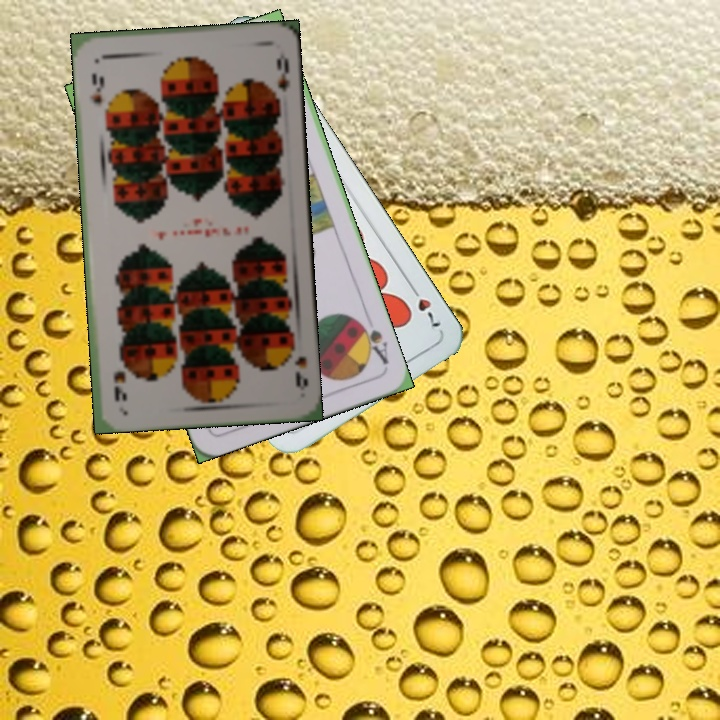H7: (405, 280, 444, 332)
S9: (283, 336, 311, 390), (88, 69, 107, 107)
SA: (353, 316, 391, 367)
